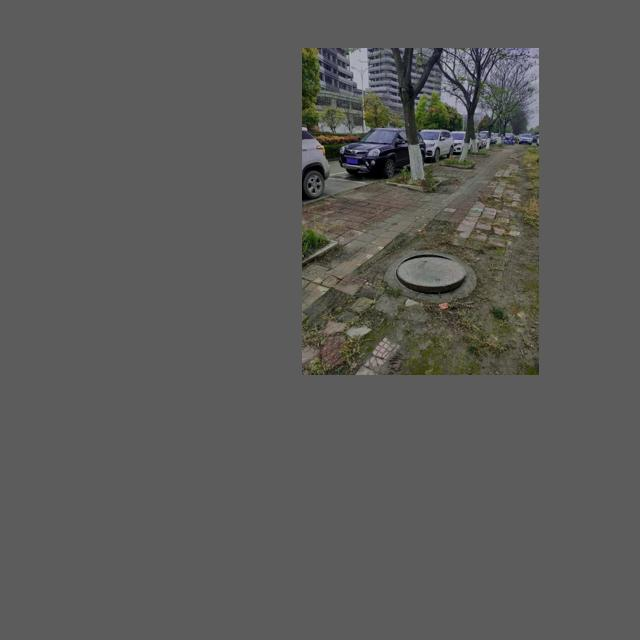uncovered: (392, 250, 469, 294)
